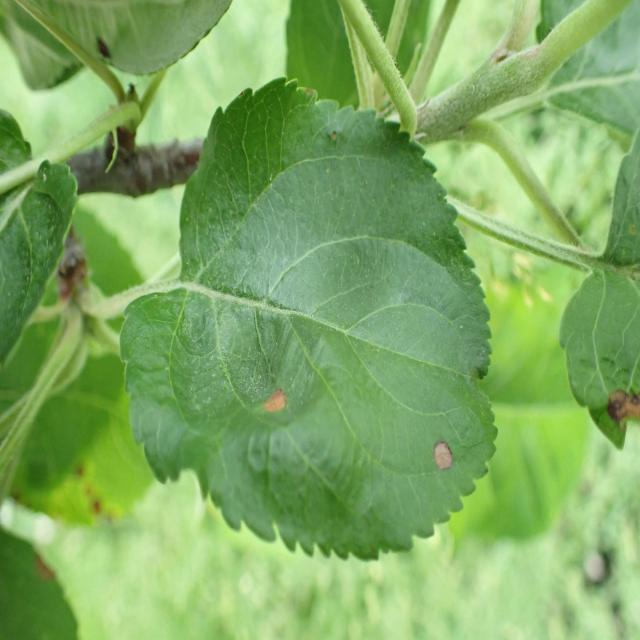Black Rot: (421, 412, 457, 501), (254, 376, 304, 430)
